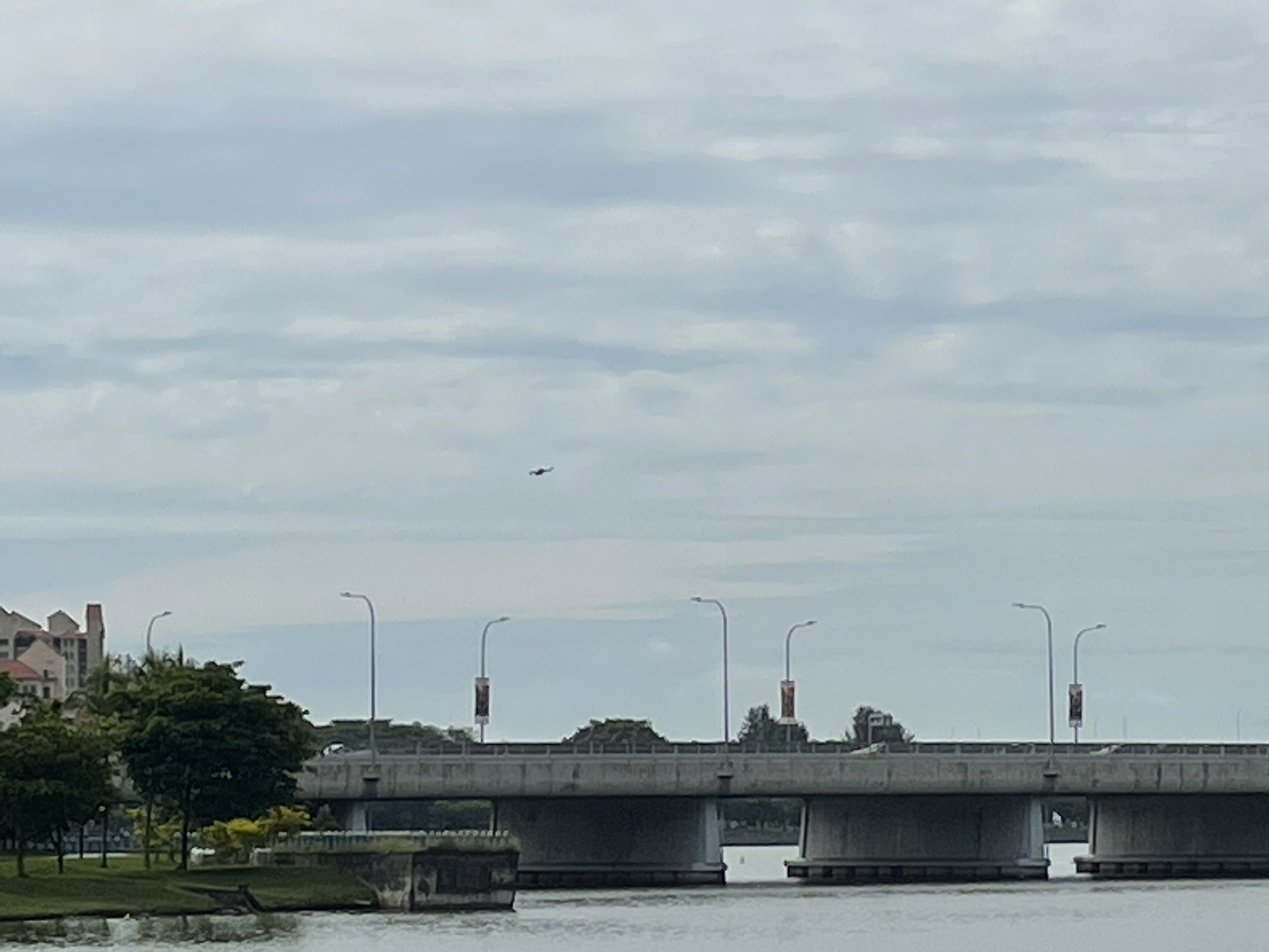drone_other: (528, 465, 554, 477)
